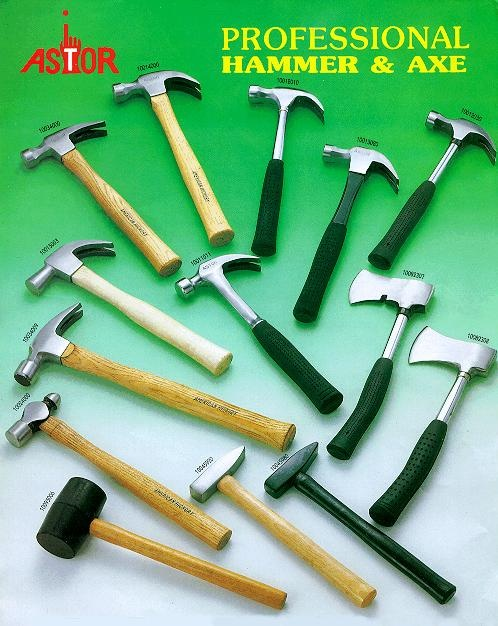hammer: (15, 302, 296, 450), (6, 391, 228, 545), (34, 474, 285, 609), (261, 440, 461, 604), (190, 446, 377, 611), (28, 239, 229, 374), (176, 250, 341, 413), (18, 117, 180, 272), (110, 68, 237, 242), (295, 138, 392, 335), (244, 81, 323, 255)
